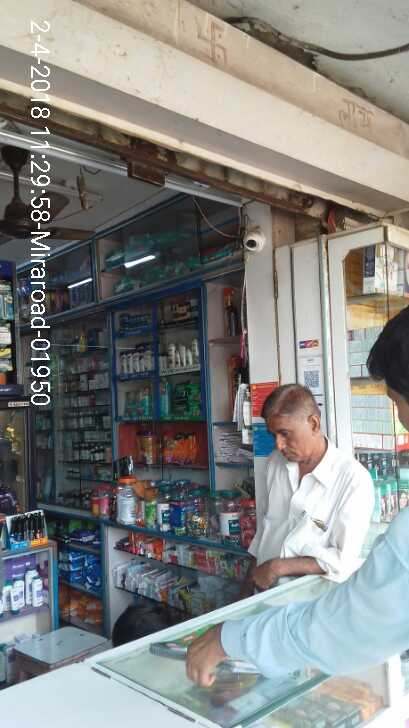vicks: (116, 308, 157, 329)
